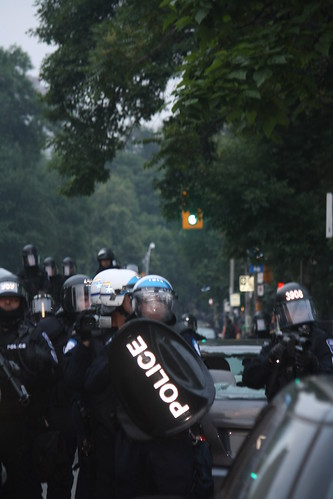policeman: (119, 283, 195, 496), (87, 267, 139, 499), (45, 270, 93, 499), (1, 269, 47, 499), (268, 283, 332, 387)
tree: (48, 1, 331, 281)
